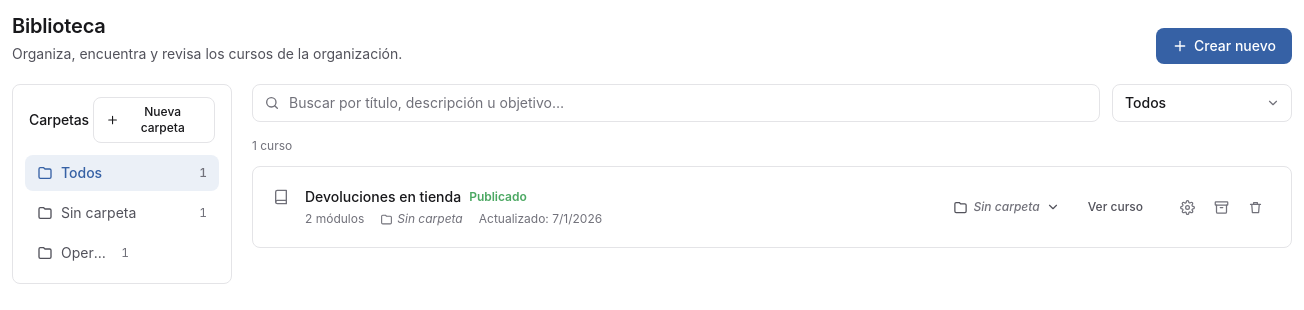
Scenario: Content — deleting a course › deletes nothing when the enrollment counts cannot be read
Click the button named "Eliminar Devoluciones en tienda" at (1255, 207), box [1239,191,1271,223]
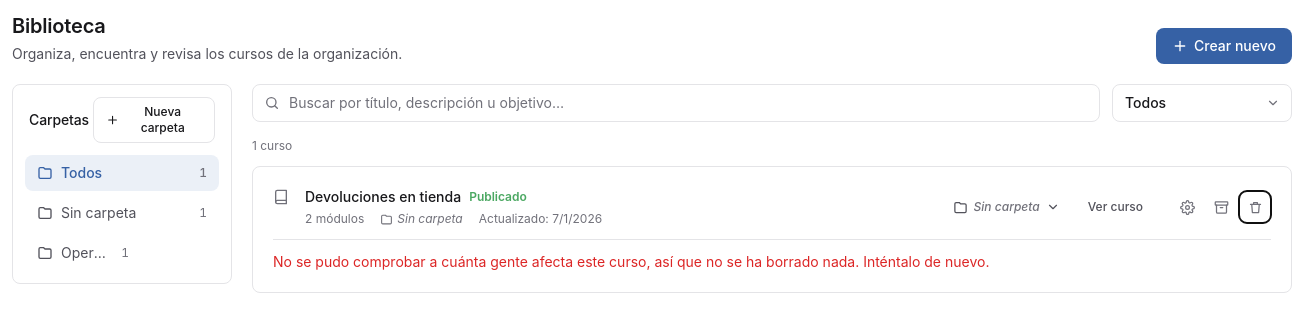
expect the message shows "No se pudo comprobar": met, box [273,253,989,270]
